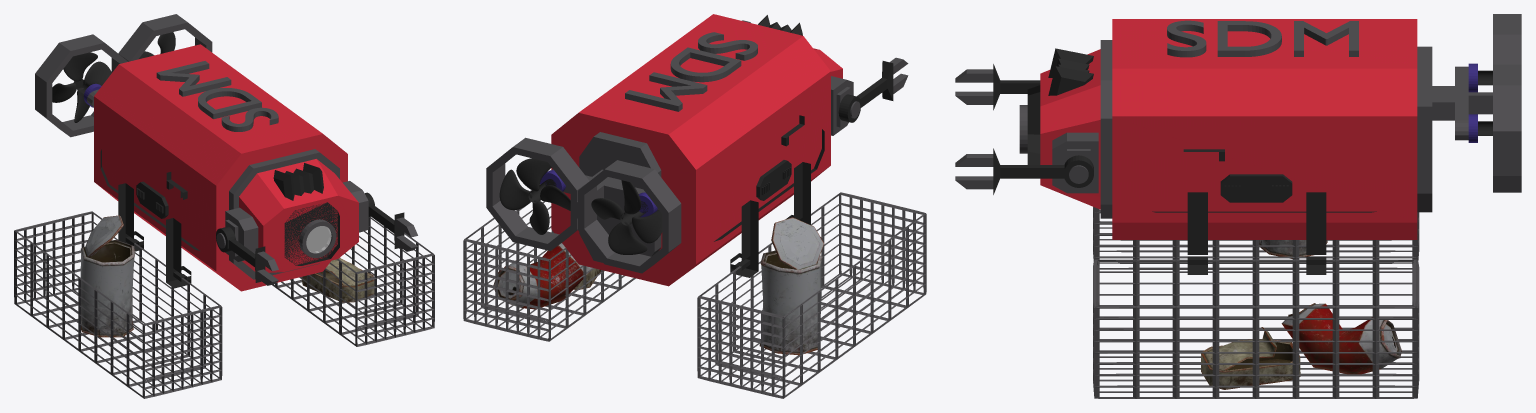
The model's file is collector_manual_with_can.glb.
3 renders of one model, left to right at view 1: azimuth 30°, elevation 25°; view 2: azimuth 150°, elevation 25°; view 3: azimuth 270°, elevation 25°, orthographic. The views are drawn at different scales.
Parts seen in each view (by area): view 1: main_body, Can_02_GEO, camera_lens; view 2: main_body, Can_02_GEO; view 3: main_body, Can_02_GEO.
Part boxes in pixels (<box>): main_body: <box>14,14,434,398</box>; Can_02_GEO: <box>80,215,374,337</box>; camera_lens: <box>306,226,331,253</box>; main_body: <box>463,14,926,398</box>; Can_02_GEO: <box>493,217,824,355</box>; main_body: <box>955,14,1521,398</box>; Can_02_GEO: <box>1201,240,1401,389</box>.
Bounding box in the file's own units: 4.09 × 2.95 × 5.53.
Materials: 3 (3 with a texture image).
